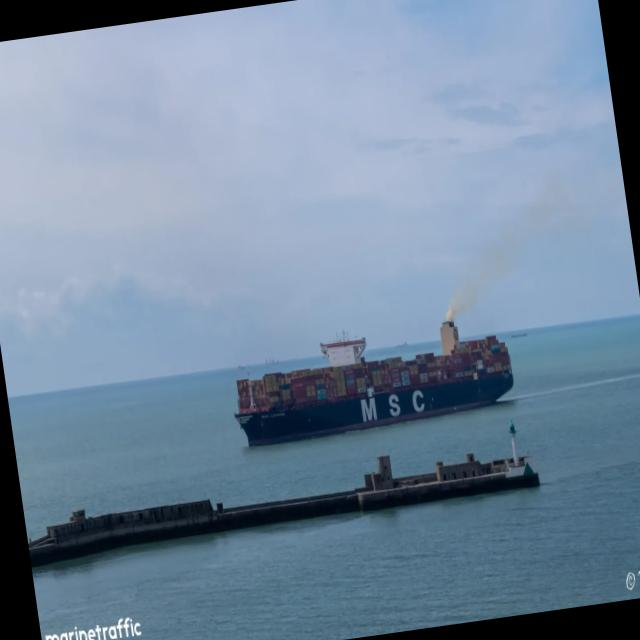Cargo: (235, 321, 513, 446)
